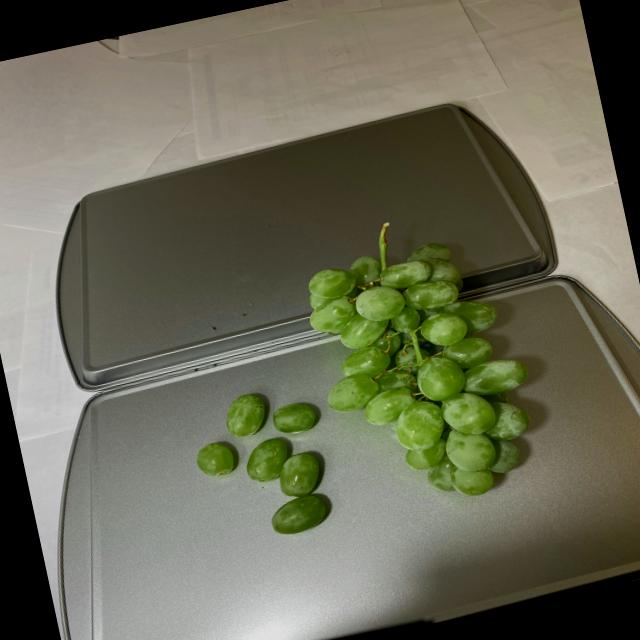grapes: (155, 197, 554, 560), (288, 194, 556, 532), (182, 373, 347, 552)
